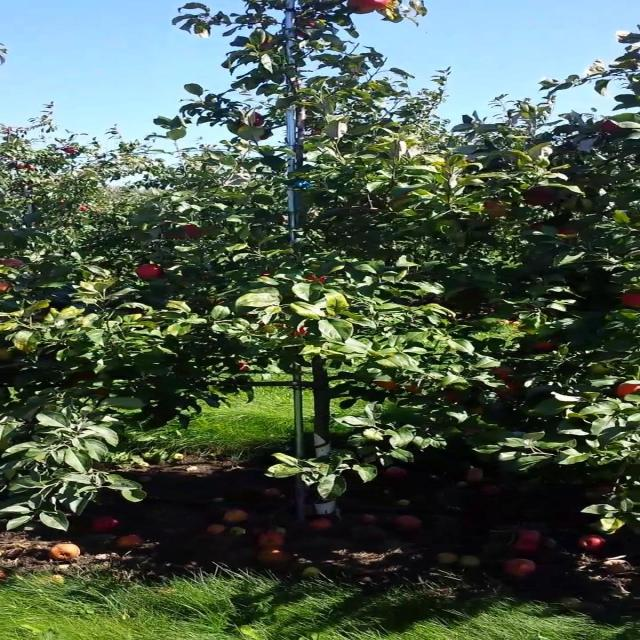apple: (525, 188, 555, 207), (497, 376, 523, 396), (134, 264, 164, 280), (348, 0, 377, 16), (497, 368, 519, 388), (483, 200, 507, 217), (298, 20, 320, 36), (532, 340, 560, 352), (184, 224, 206, 238), (618, 384, 638, 399), (376, 380, 398, 391), (490, 368, 514, 378), (625, 292, 639, 308), (604, 120, 620, 133), (77, 372, 98, 381), (248, 116, 263, 128), (305, 276, 327, 284), (404, 384, 421, 393), (291, 328, 308, 337), (6, 260, 23, 268), (561, 228, 578, 236), (305, 20, 320, 29), (449, 392, 462, 402), (99, 388, 112, 398), (376, 4, 391, 10), (241, 364, 249, 372)
